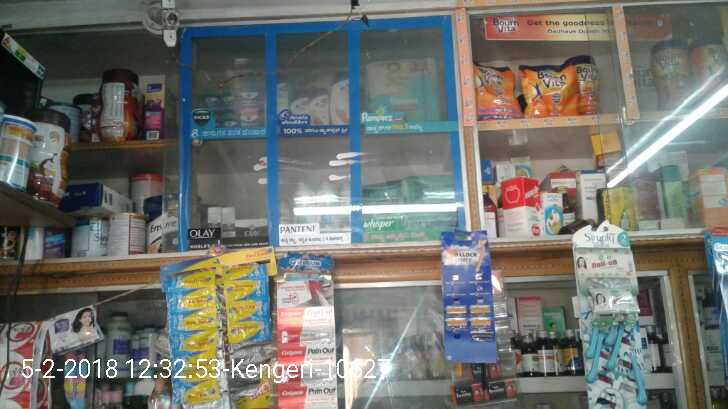beauty: (329, 71, 350, 126), (307, 87, 334, 125), (236, 217, 270, 241), (288, 90, 308, 125), (205, 205, 221, 237), (220, 205, 235, 238)
pharmacy: (364, 62, 446, 124), (401, 176, 467, 239), (361, 184, 399, 242), (237, 80, 263, 106), (237, 108, 265, 128), (217, 85, 239, 105), (219, 108, 235, 126), (203, 88, 217, 106)
